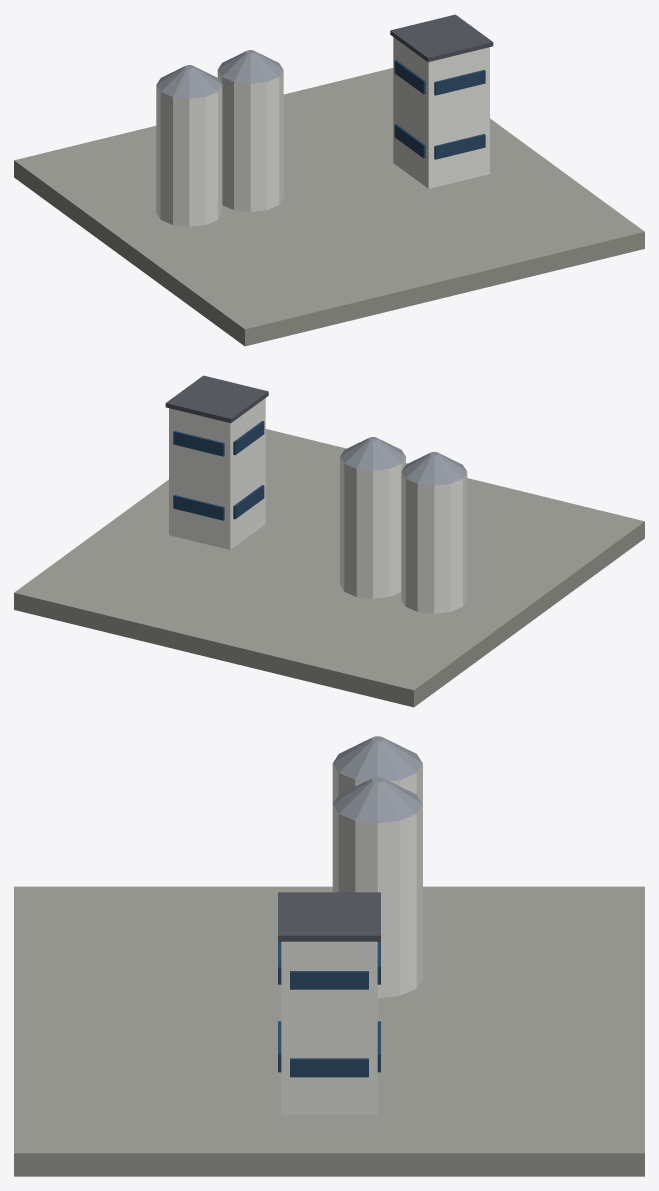
The model's file is agro_income_1.glb.
3 renders of one model, top to bottom at view 1: azimuth 30°, elevation 25°; view 2: azimuth 150°, elevation 25°; view 3: azimuth 270°, elevation 25°, orthographic. The views are drawn at different scales.
Visible parts, largest first — view 1: agro_income_1; view 2: agro_income_1; view 3: agro_income_1.
Part boxes in pixels (left/top/right/bottom): agro_income_1: left=14, top=14, right=644, bottom=346; agro_income_1: left=14, top=375, right=644, bottom=707; agro_income_1: left=14, top=736, right=644, bottom=1176.
Bounding box in the file's own units: 1.96 × 0.764 × 1.96.
